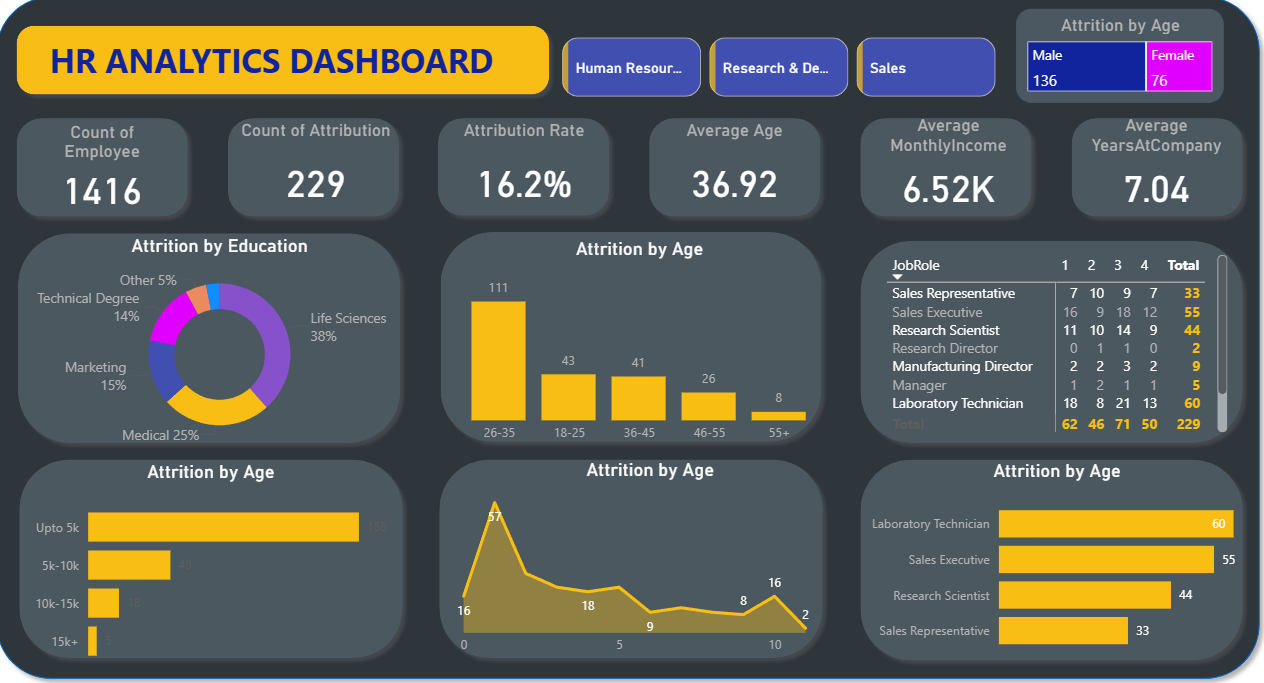

What the dashboard file says about the page in this screenshot:
{"tool":"powerbi","page":{"name":"Main dashboard","canvas":[1280,720],"ordinal":0},"visuals":[{"type":"shape","box":[286.5,195.8,181.5,96.1],"z":0},{"type":"shape","box":[26,27.4,1253.8,685.3],"z":1000},{"type":"shape","box":[46.3,146.7,183.3,112.1],"z":2000},{"type":"shape","box":[1078.6,146.7,183.3,112.1],"z":3000},{"type":"shape","box":[665.7,146.7,183.3,112.1],"z":4000},{"type":"shape","box":[872.1,146.7,183.3,112.1],"z":5000},{"type":"shape","box":[252.7,146.7,183.3,112.1],"z":6000},{"type":"shape","box":[459.1,146.7,183.4,111.3],"z":7000},{"type":"card","title":"Count of Employee","fields":{"Values":["Sum(HR_Analytics.EmployeeCount)"]},"box":[57.5,157.7,161.4,89.3],"z":8000},{"type":"card","title":"Count of Attribution","fields":{"Values":["Sum(HR_Analytics.Attrition_Count)"]},"box":[255.6,156.5,183.4,97.8],"z":9000},{"type":"card","title":"Attribution Rate","fields":{"Values":["HR_Analytics.Attrition Rate"]},"box":[463.5,156.5,174.9,97.8],"z":10000},{"type":"card","title":"Average Age","fields":{"Values":["Avg(HR_Analytics.Age)"]},"box":[668.9,156.5,176.1,97.8],"z":11000},{"type":"card","title":"Average MonthlyIncome","fields":{"Values":["Avg(HR_Analytics.MonthlyIncome)"]},"box":[875.5,151.6,181,97.8],"z":12000},{"type":"card","title":"Average YearsAtCompany","fields":{"Values":["Avg(HR_Analytics.YearsAtCompany)"]},"box":[1084.7,151.6,170,97.8],"z":13000},{"type":"shape","box":[47.7,259.2,390.1,221.3],"z":14000},{"type":"donutChart","title":"Attrition by Education","fields":{"Category":["HR_Analytics.EducationField"],"Y":["Sum(HR_Analytics.Attrition_Count)"]},"box":[56.3,269,393.8,211.6],"z":15000},{"type":"shape","box":[871.9,266.6,390.1,214],"z":16000},{"type":"shape","box":[461,258,388.9,221.3],"z":17000},{"type":"columnChart","title":"Attrition by Age","fields":{"Category":["HR_Analytics.AgeGroup"],"Y":["Sum(HR_Analytics.Attrition_Count)"]},"box":[467.1,271.5,393.8,209.1],"z":18000},{"type":"pivotTable","fields":{"Rows":["HR_Analytics.JobRole"],"Columns":["HR_Analytics.JobSatisfaction"],"Values":["Sum(HR_Analytics.Attrition_Count)"]},"box":[901.2,283.7,342.4,183.4],"z":19000},{"type":"shape","box":[871.9,480.6,390.1,212.8],"z":20000},{"type":"shape","box":[459.8,480.6,391.3,210.3],"z":21000},{"type":"shape","box":[48.9,480.6,391.3,210.3],"z":22000},{"type":"barChart","title":"Attrition by Age","fields":{"Category":["HR_Analytics.SalarySlab"],"Y":["Sum(HR_Analytics.Attrition_Count)"]},"box":[63.6,490.4,362,211.6],"z":23000},{"type":"areaChart","title":"Attrition by Age","fields":{"Category":["HR_Analytics.YearsAtCompany"],"Y":["Sum(HR_Analytics.Attrition_Count)"]},"box":[476.9,487.9,395,200.5],"z":24000},{"type":"barChart","title":"Attrition by Age","fields":{"Y":["Sum(HR_Analytics.Attrition_Count)"],"Category":["HR_Analytics.JobRole"]},"box":[875.8,489.1,393.9,200.5],"z":25000},{"type":"advancedSlicerVisual","fields":{"Values":["HR_Analytics.Department"]},"box":[583.3,70.9,434.1,68.5],"z":26000},{"type":"treemap","title":"Attrition by Age","fields":{"Values":["Sum(HR_Analytics.Attrition_Count)"],"Group":["HR_Analytics.Gender"]},"box":[1032.1,47.7,203,91.7],"z":27000},{"type":"shape","box":[46.5,56.3,536.8,83.2],"z":27001},{"type":"textbox","box":[81.9,70.9,530.7,86.8],"z":27002}]}

Visuals, with their boxes on the page's 1280x720 design canvas (x1, y1, x2, y2). These are canvas units, not pixel positions in the 1264x683 screenshot, which may show the page scaled, cropped or inside an application window:
shape: bbox=(286, 196, 468, 292)
shape: bbox=(26, 27, 1280, 713)
shape: bbox=(46, 147, 230, 259)
shape: bbox=(1079, 147, 1262, 259)
shape: bbox=(666, 147, 849, 259)
shape: bbox=(872, 147, 1055, 259)
shape: bbox=(253, 147, 436, 259)
shape: bbox=(459, 147, 642, 258)
"Count of Employee" card: bbox=(58, 158, 219, 247)
"Count of Attribution" card: bbox=(256, 156, 439, 254)
"Attribution Rate" card: bbox=(464, 156, 638, 254)
"Average Age" card: bbox=(669, 156, 845, 254)
"Average MonthlyIncome" card: bbox=(876, 152, 1056, 249)
"Average YearsAtCompany" card: bbox=(1085, 152, 1255, 249)
shape: bbox=(48, 259, 438, 480)
"Attrition by Education" donutChart: bbox=(56, 269, 450, 481)
shape: bbox=(872, 267, 1262, 481)
shape: bbox=(461, 258, 850, 479)
"Attrition by Age" columnChart: bbox=(467, 272, 861, 481)
pivotTable - HR_Analytics.JobRole x HR_Analytics.JobSatisfaction: bbox=(901, 284, 1244, 467)
shape: bbox=(872, 481, 1262, 693)
shape: bbox=(460, 481, 851, 691)
shape: bbox=(49, 481, 440, 691)
"Attrition by Age" barChart: bbox=(64, 490, 426, 702)
"Attrition by Age" areaChart: bbox=(477, 488, 872, 688)
"Attrition by Age" barChart: bbox=(876, 489, 1270, 690)
advancedSlicerVisual - HR_Analytics.Department: bbox=(583, 71, 1017, 139)
"Attrition by Age" treemap: bbox=(1032, 48, 1235, 139)
shape: bbox=(46, 56, 583, 140)
textbox: bbox=(82, 71, 613, 158)
